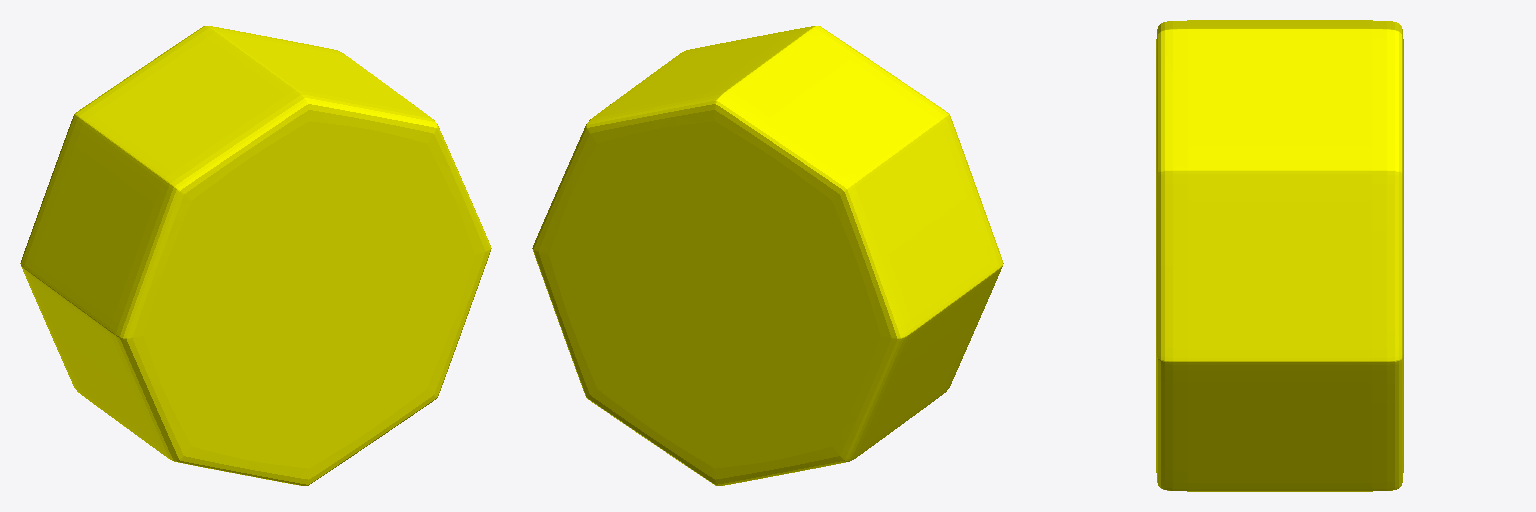
robot.urdf — p8.urdf:
<?xml version="0.0" ?>
<robot name="p8.urdf">
  <link name="baseLink">
    <contact>
      <lateral_friction value="1.0"/>
  <!--     <rolling_friction value="0.0"/>
      <spinning_friction value="0.01">
      <inertia_scaling value="3.0"/>
      <contact_cfm value="0.0"/>
      <contact_erp value="1.0"/> -->
    </contact>
    <inertial>
      <origin rpy="0 0 0" xyz="0 0 0"/>
       <mass value=".09"/>
       <inertia ixx="1" ixy="0" ixz="0" iyy="1" iyz="0" izz="1"/>
    </inertial>
    <visual>
      <origin rpy="0 0 0" xyz="0 0 0"/>
        <geometry>
      <mesh filename="P8.obj" scale=".06 .06 .06"/>
        </geometry>
        <material name="orange">
          <color rgba="1 1 0 0"/>
        </material>
    </visual>
    <collision>
        <origin rpy="0 0 0" xyz="0 0 0"/>
        <geometry>
          <mesh filename="P8.obj" scale=".06 .06 .06"/>
        </geometry>
    </collision>
  </link>
</robot>

--- What the picture shows (computed from the rendered views, not written in the file) ---
3 views of the same robot in one strip: view 1: azimuth 30°, elevation 25°; view 2: azimuth 150°, elevation 25°; view 3: azimuth 270°, elevation 25° (orthographic).
Robot: p8.urdf — 1 links, 0 joints (none); root link baseLink; default pose: every joint at zero.
Links seen in each view (by area): view 1: baseLink; view 2: baseLink; view 3: baseLink.
Boxes of the visible links, bbox=[...] form: baseLink: bbox=[20, 26, 491, 485]; baseLink: bbox=[532, 26, 1003, 485]; baseLink: bbox=[1156, 20, 1403, 491].
Bounding box of the posed robot: 0.2431 × 0.1201 × 0.2431 m (x, y, z).
Meshes: 1 distinct files referenced, 1 mesh visuals loaded (1 OBJ).